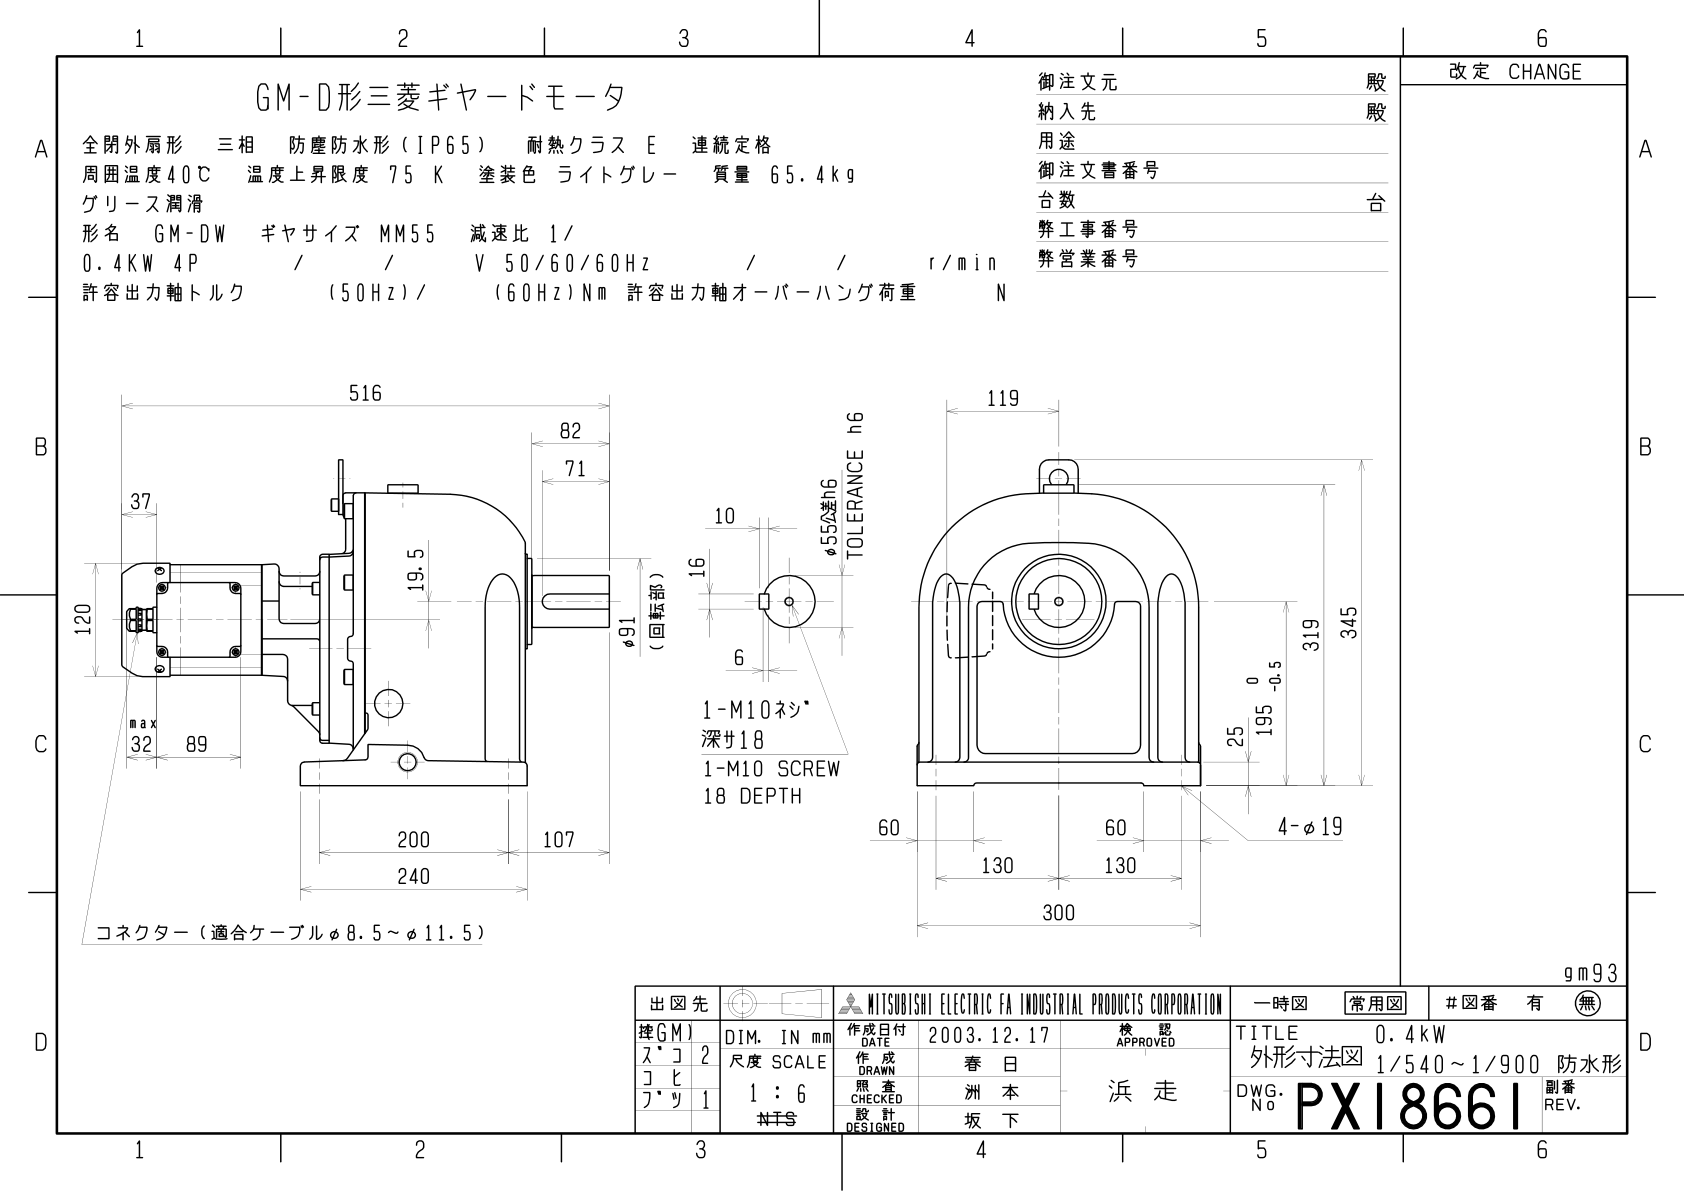GM_D_IP65_三相_脚: (64, 345, 1393, 967)
